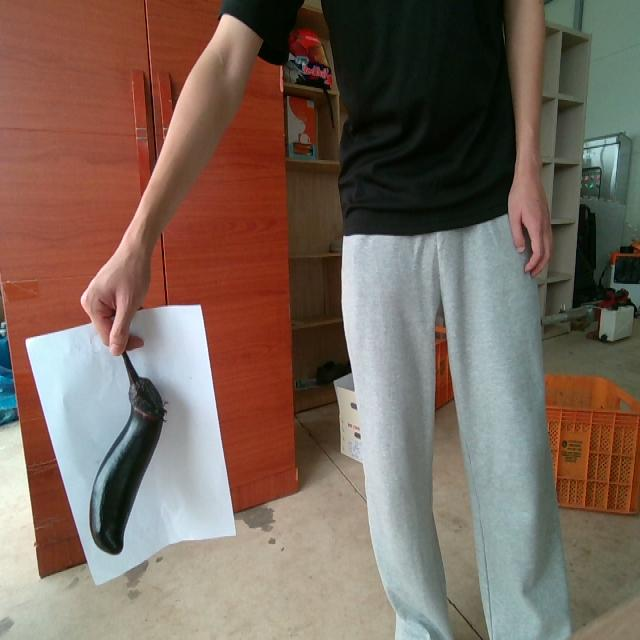Egg plant: (89, 352, 165, 553)
